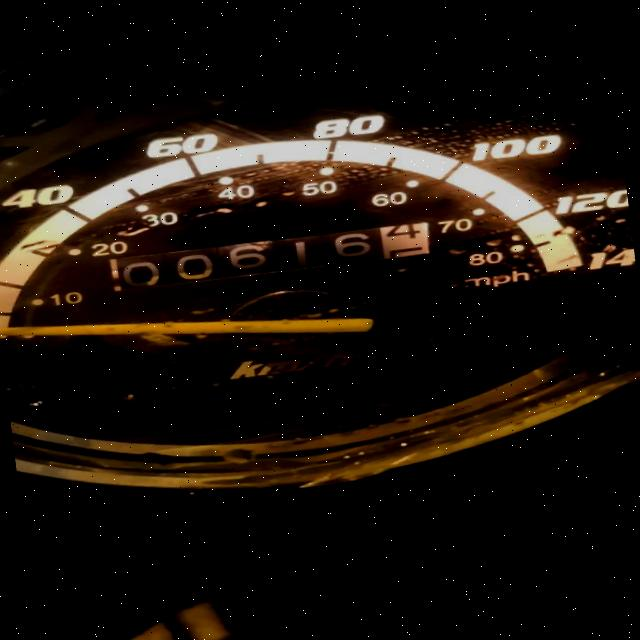odometer: (101, 216, 434, 295)
